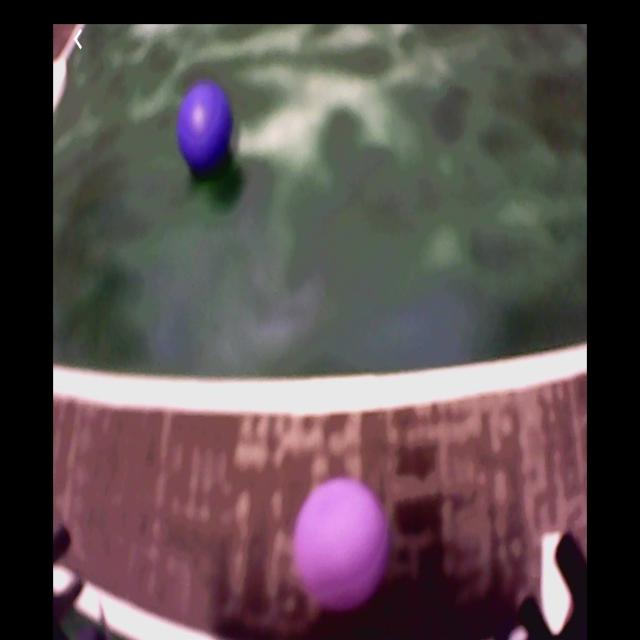ball: (294, 477, 389, 613), (176, 81, 234, 176)
